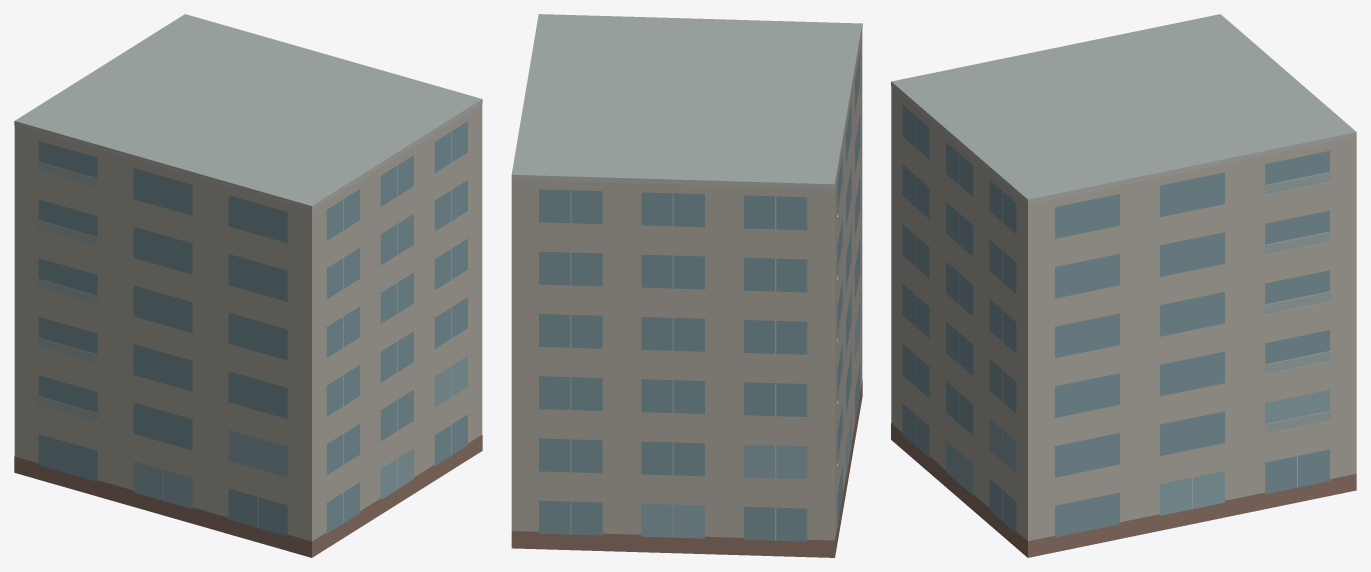
Rendered from survey-upis-32744167.glb.
3 renders of one model, left to right at view 1: azimuth 30°, elevation 25°; view 2: azimuth 150°, elevation 25°; view 3: azimuth 270°, elevation 25°, orthographic. The views are drawn at different scales.
Visible parts, largest first — view 1: survey-upis-32744167.tmp; view 2: survey-upis-32744167.tmp; view 3: survey-upis-32744167.tmp.
Part boxes in pixels (x1,y1,x2,y2): survey-upis-32744167.tmp: [14, 14, 482, 557]; survey-upis-32744167.tmp: [511, 14, 862, 557]; survey-upis-32744167.tmp: [891, 14, 1356, 557].
Bounding box in the file's own units: 20.01 × 18 × 21.2.
